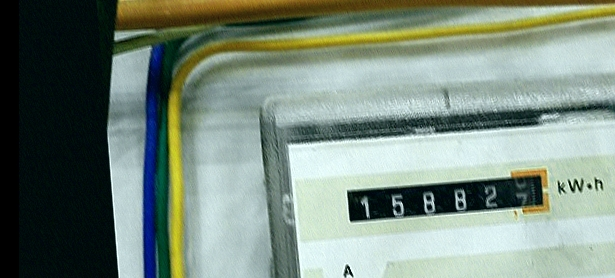1: (360, 192, 374, 219)
2: (483, 182, 501, 208)
5: (391, 190, 407, 217)
7: (515, 188, 531, 206)
8: (421, 188, 439, 214), (453, 185, 470, 211)
screen: (337, 161, 560, 235)
